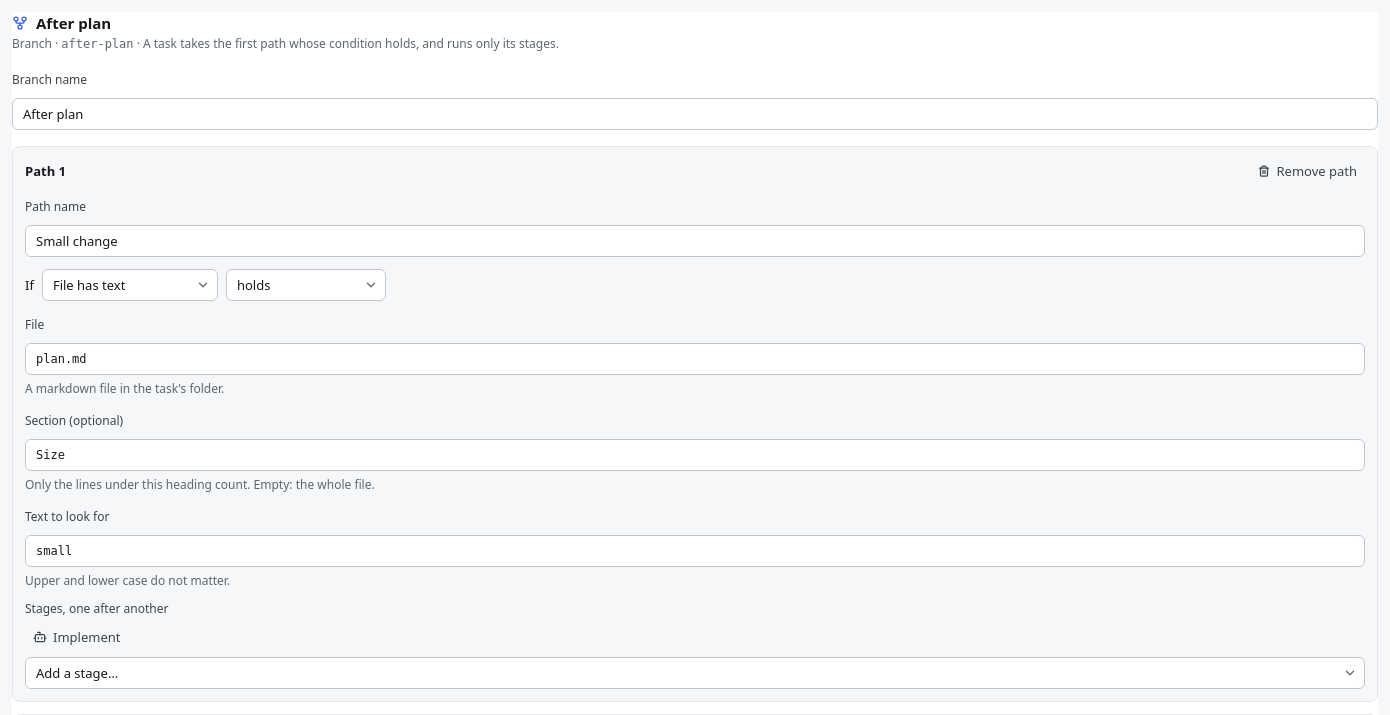
Test: BranchDetails › changes the type of the condition and starts it blank, with the error of its field
Select "Command succeeds" in the dropdown named "Condition type" at (130, 285), box [42,269,218,301]
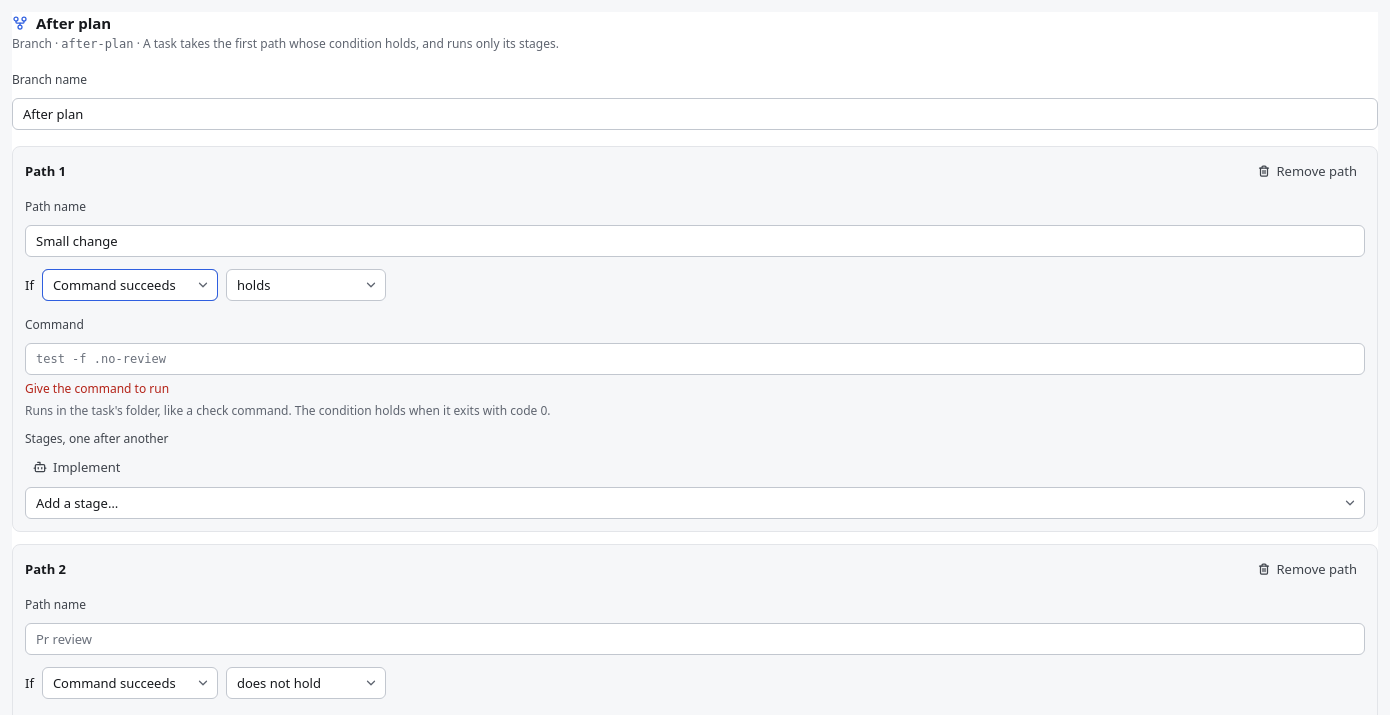
expect the text "Give the command to run" is shown: met, box [25,380,169,397]
expect the label "File" is gone: met
